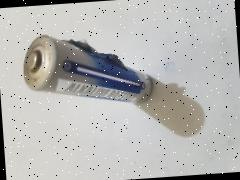electronic: (72, 3, 211, 128)
